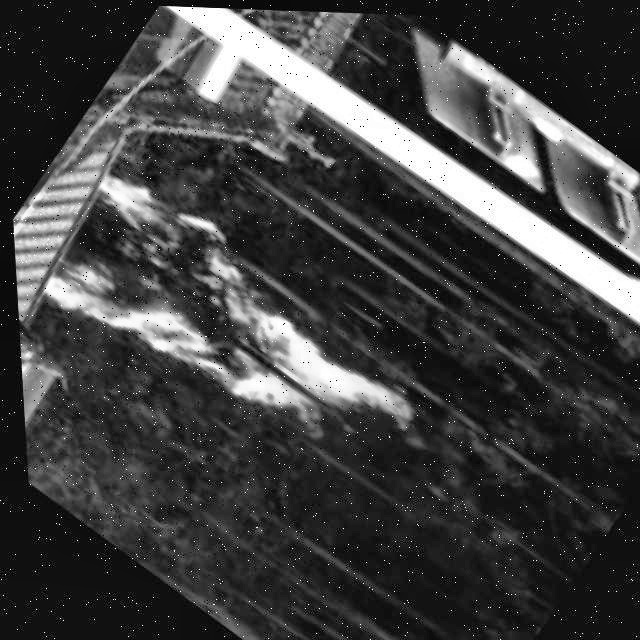Fire: (25, 153, 421, 498)
